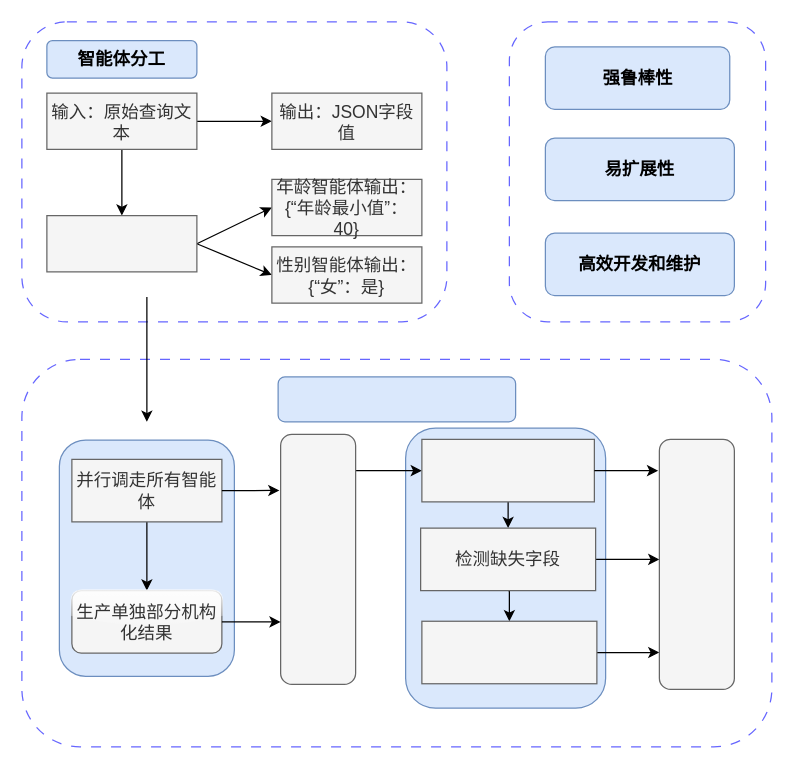
This 794x769 diagram has some shape labels left out. Each missing label, with the centre of its shape:
"整 合 所 有 已 结 构 化 数 据" belongs at point (317, 558).
"整齐与补全" belongs at point (396, 399).
"查漏补缺智能体" belongs at point (507, 470).
"补全缺漏" belongs at point (509, 652).
"输 出 完 整 J S O N 字 段 值" belongs at point (696, 563).
"输入“40岁以上的女干部”" belongs at point (121, 243).
